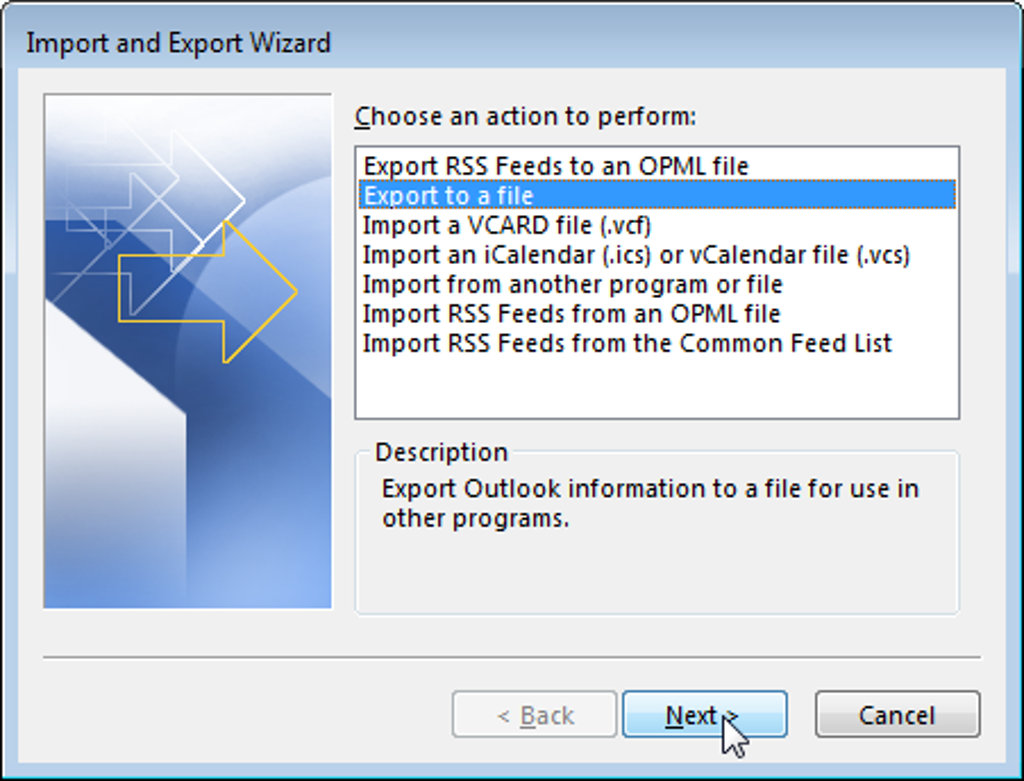button: (357, 237, 911, 268), (357, 327, 895, 357), (357, 147, 756, 178), (356, 269, 786, 297), (356, 298, 783, 326), (621, 688, 790, 743), (813, 688, 982, 739), (452, 687, 616, 739), (357, 210, 654, 237), (356, 180, 540, 208)
common: (381, 474, 923, 534), (352, 98, 700, 134)
container: (1, 1, 1024, 781), (17, 68, 1004, 656), (355, 147, 959, 417), (353, 434, 963, 617), (18, 656, 1005, 763), (1, 1, 1024, 68)
header: (22, 22, 336, 57), (376, 439, 509, 465)
image: (41, 92, 333, 611)
